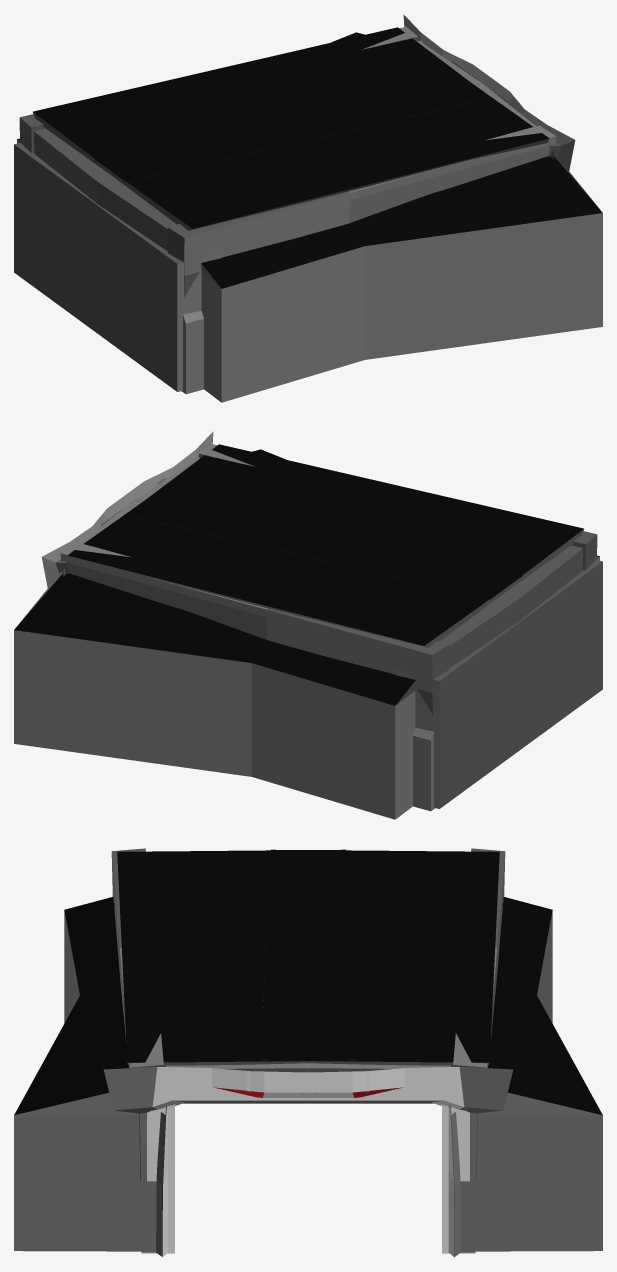
Rendered from Tunnel.fbx.
3 views of the same model, one above another, from view 1: azimuth 30°, elevation 25°; view 2: azimuth 150°, elevation 25°; view 3: azimuth 270°, elevation 25° (orthographic). The views are drawn at different scales.
Visible parts, largest first — view 1: Cube; view 2: Cube; view 3: Cube.
Part boxes in pixels (box(x1,y1,x2,y2)): Cube: box(14, 14, 602, 402); Cube: box(14, 431, 602, 819); Cube: box(14, 848, 602, 1257).
Bounding box in the file's own units: 3040 × 1180 × 3284.
